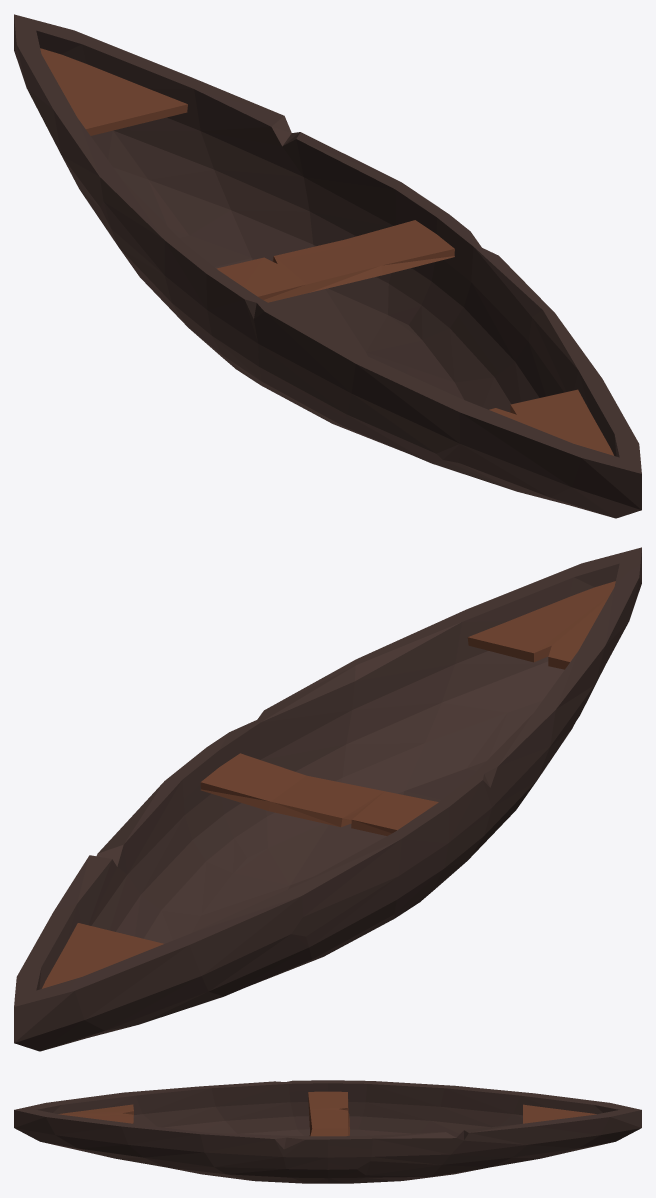
File: Aztec Canoe_1.fbx
The picture shows the model from 3 angles, top to bottom: view 1: azimuth 30°, elevation 25°; view 2: azimuth 150°, elevation 25°; view 3: azimuth 270°, elevation 25°; orthographic projection. The views are drawn at different scales.
Visible parts, largest first — view 1: Aztec Canoe_1; view 2: Aztec Canoe_1; view 3: Aztec Canoe_1.
Boxes of the visible parts, left/top/right/bottom form: Aztec Canoe_1: left=14, top=14, right=641, bottom=518; Aztec Canoe_1: left=14, top=547, right=641, bottom=1051; Aztec Canoe_1: left=14, top=1080, right=641, bottom=1183.
Size of the model in its own units: 1.58 by 0.7662 by 7.06.
